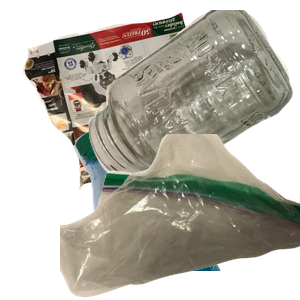glass: (86, 10, 300, 184)
paper: (20, 10, 231, 190)
plastic: (71, 120, 300, 300)
trash: (60, 134, 300, 300)
